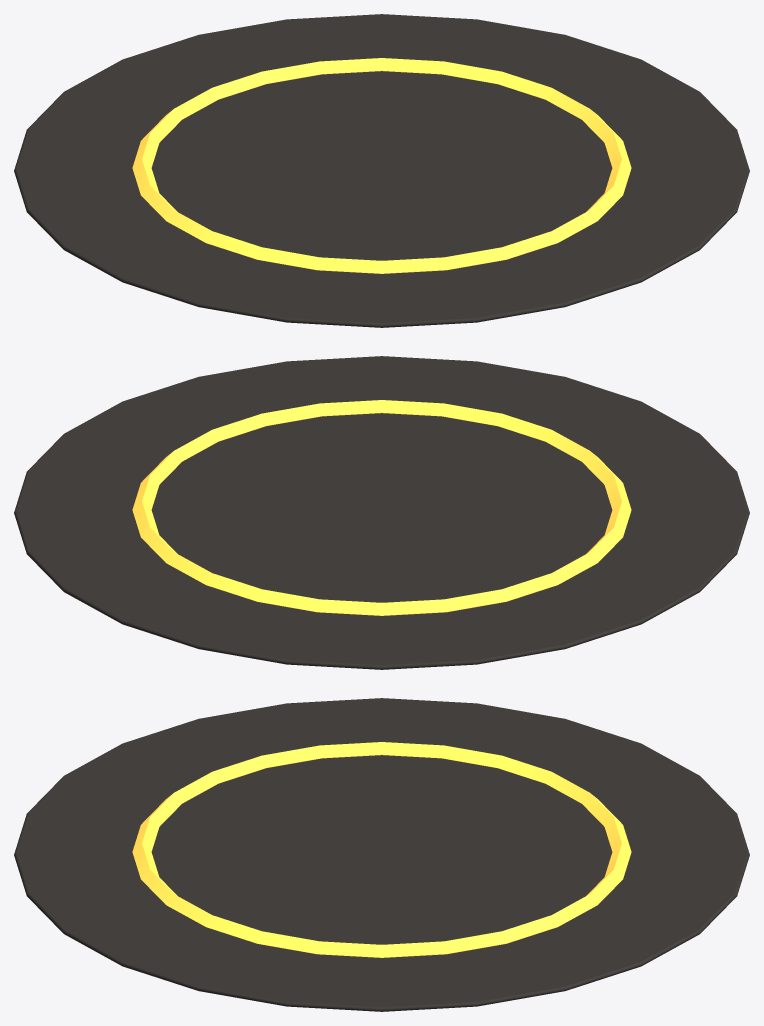
The model's file is kr_fire2_scorch.glb.
3 renders of one model, top to bottom at view 1: azimuth 30°, elevation 25°; view 2: azimuth 150°, elevation 25°; view 3: azimuth 270°, elevation 25°, orthographic.
Visible parts, largest first — view 1: vc_m0_r8, kr_fire2_scorch_fl_scorch; view 2: vc_m0_r8, kr_fire2_scorch_fl_scorch; view 3: vc_m0_r8, kr_fire2_scorch_fl_scorch.
Boxes of the visible parts, x1=… form: vc_m0_r8: x1=14, y1=14, x2=749, y2=327; kr_fire2_scorch_fl_scorch: x1=132, y1=58, x2=631, y2=273; vc_m0_r8: x1=14, y1=356, x2=749, y2=669; kr_fire2_scorch_fl_scorch: x1=132, y1=400, x2=631, y2=615; vc_m0_r8: x1=14, y1=698, x2=749, y2=1011; kr_fire2_scorch_fl_scorch: x1=132, y1=742, x2=631, y2=957.
Size of the model in its own units: 0.92 by 0.024 by 0.92.
